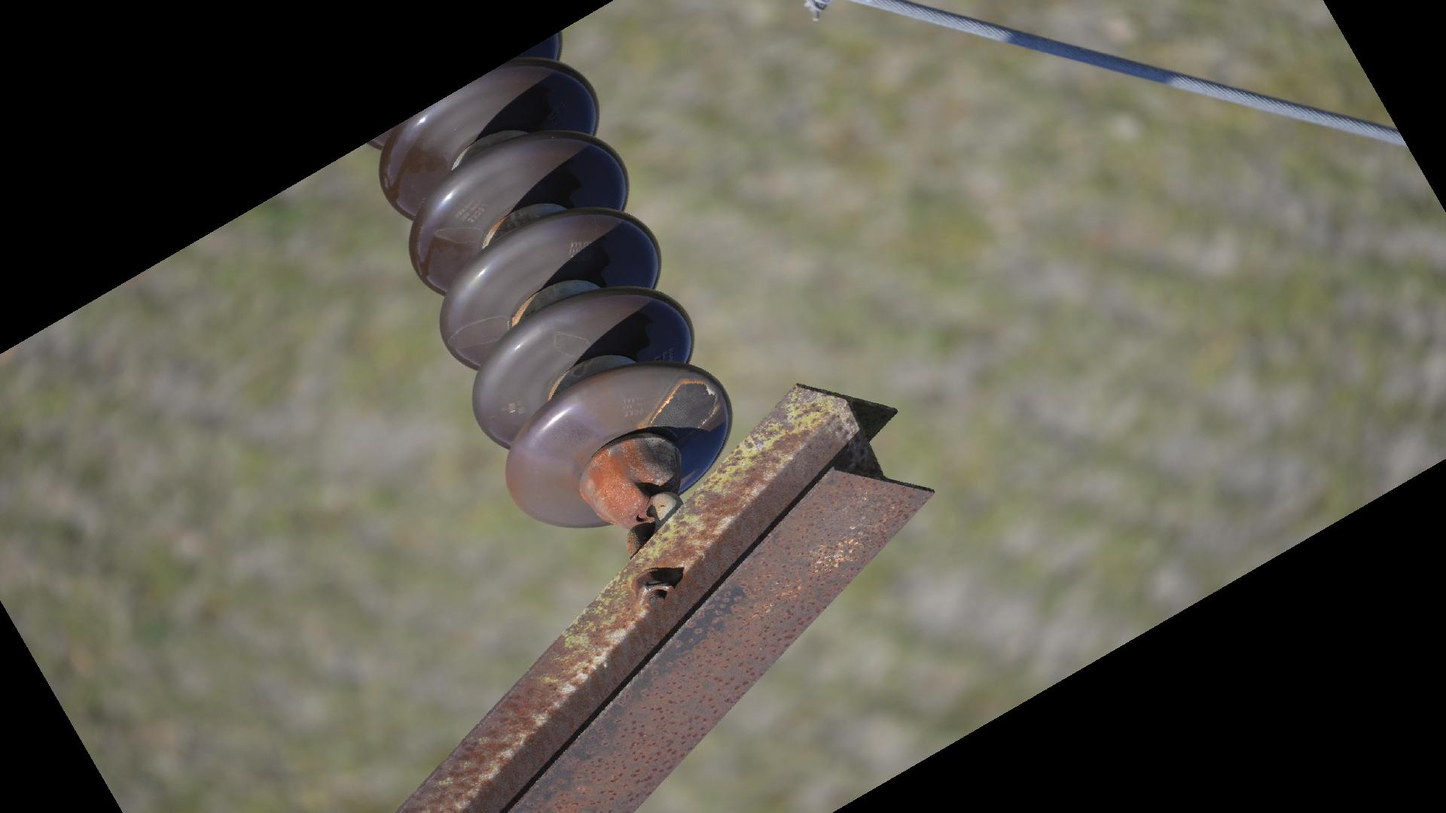insulator: (355, 33, 739, 531)
insulator_flashover: (645, 379, 720, 446)
